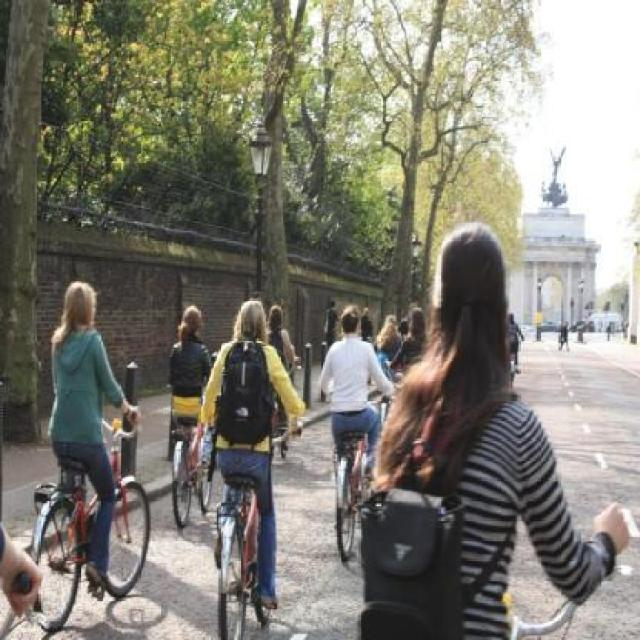backpack: (349, 475, 471, 640), (214, 338, 277, 451)
